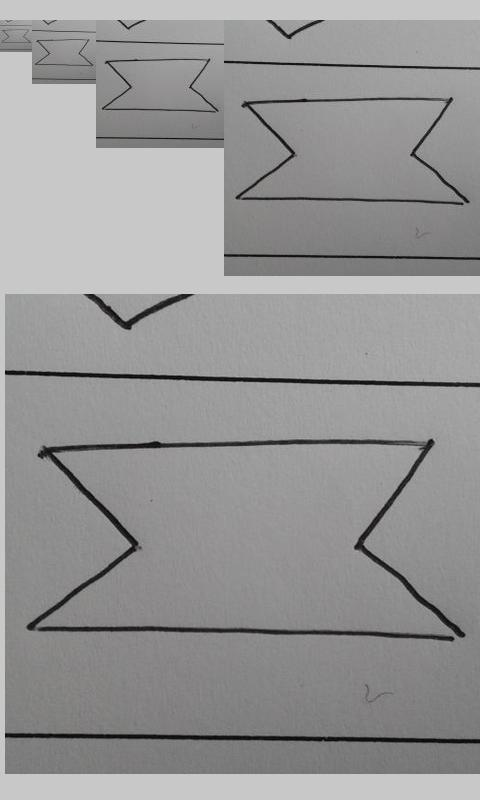edit_text: (25, 436, 463, 642), (235, 96, 468, 206), (101, 58, 219, 114), (35, 38, 93, 67), (1, 28, 31, 44)
